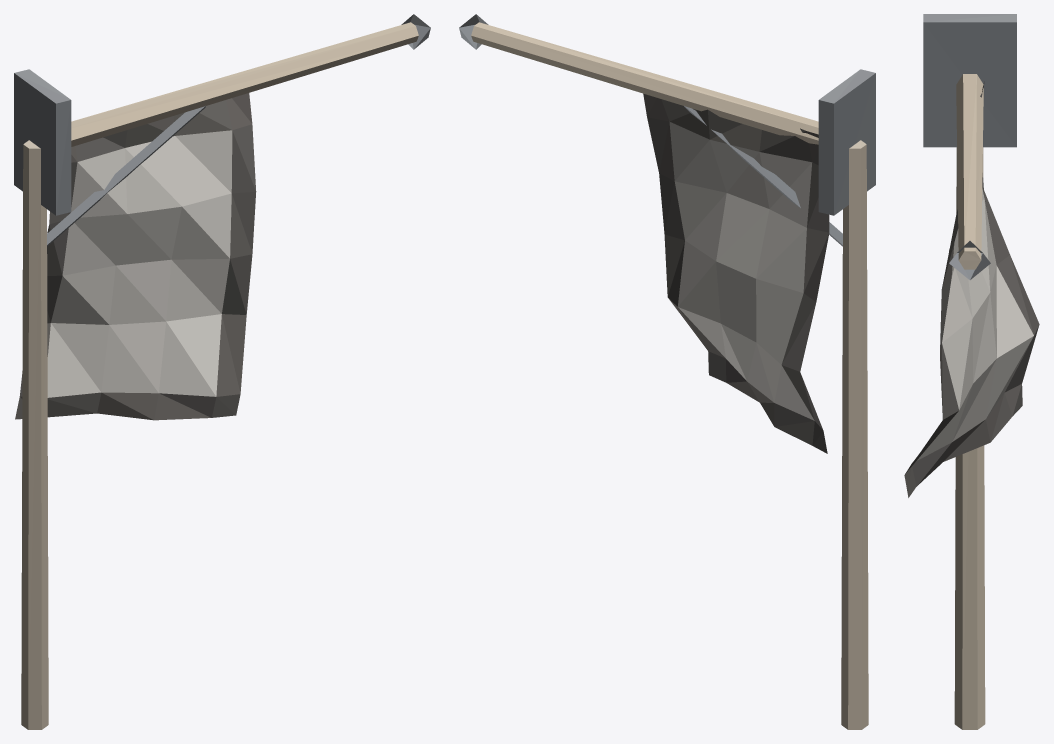
The model's file is flag.rect.suqi__pole.horizontal.xiecheng__armHang.glb.
3 views of the same model, side by side, from view 1: azimuth 30°, elevation 25°; view 2: azimuth 150°, elevation 25°; view 3: azimuth 270°, elevation 25° (orthographic). The views are drawn at different scales.
Parts seen in each view (by area): view 1: flag.rect.suqi; view 2: flag.rect.suqi; view 3: flag.rect.suqi.
Boxes of the visible parts, <box> form: flag.rect.suqi: <box>14,14,430,729</box>; flag.rect.suqi: <box>459,14,875,729</box>; flag.rect.suqi: <box>904,14,1039,729</box>.
Bounding box in the file's own units: 2.12 × 3.18 × 0.5482.
